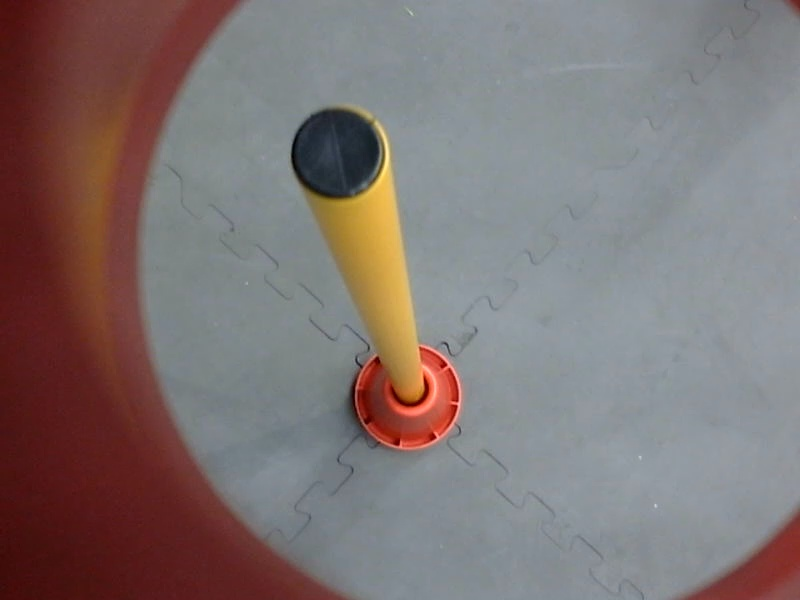tip: (283, 97, 389, 207)
